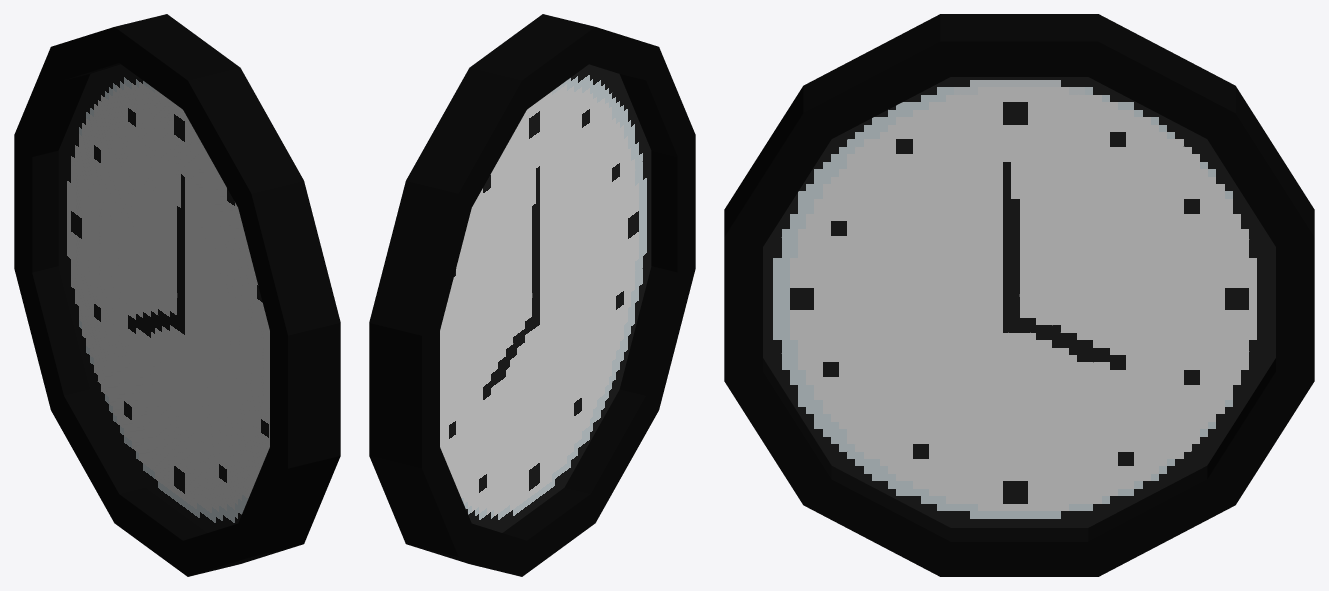
Rendered from TheClock.gltf.
3 views of the same model, side by side, from view 1: azimuth 30°, elevation 25°; view 2: azimuth 150°, elevation 25°; view 3: azimuth 270°, elevation 25° (orthographic). The views are drawn at different scales.
Visible parts, largest first — view 1: tube, Clock; view 2: tube, Clock; view 3: Clock, tube.
Boxes of the visible parts, left/top/right/bottom form: tube: left=14, top=14, right=340, bottom=576; Clock: left=58, top=64, right=269, bottom=532; tube: left=369, top=14, right=695, bottom=576; Clock: left=440, top=64, right=651, bottom=532; Clock: left=763, top=77, right=1275, bottom=527; tube: left=724, top=14, right=1314, bottom=576.
Bounding box in the file's own units: 0.0625 × 0.5625 × 0.5625.
2 materials, 2 textured.
